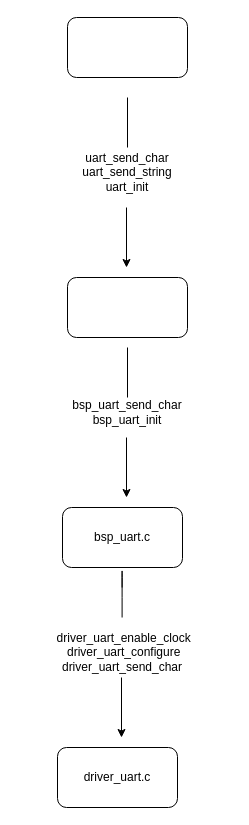
Image size: 249x825. Some labels were removed from this diagram. The shapes that lost their labels are listed below. From the top down, each one's centre as x and y in pixels, then its label:
point (127, 47): main_uart.c
point (127, 307): uart.c
